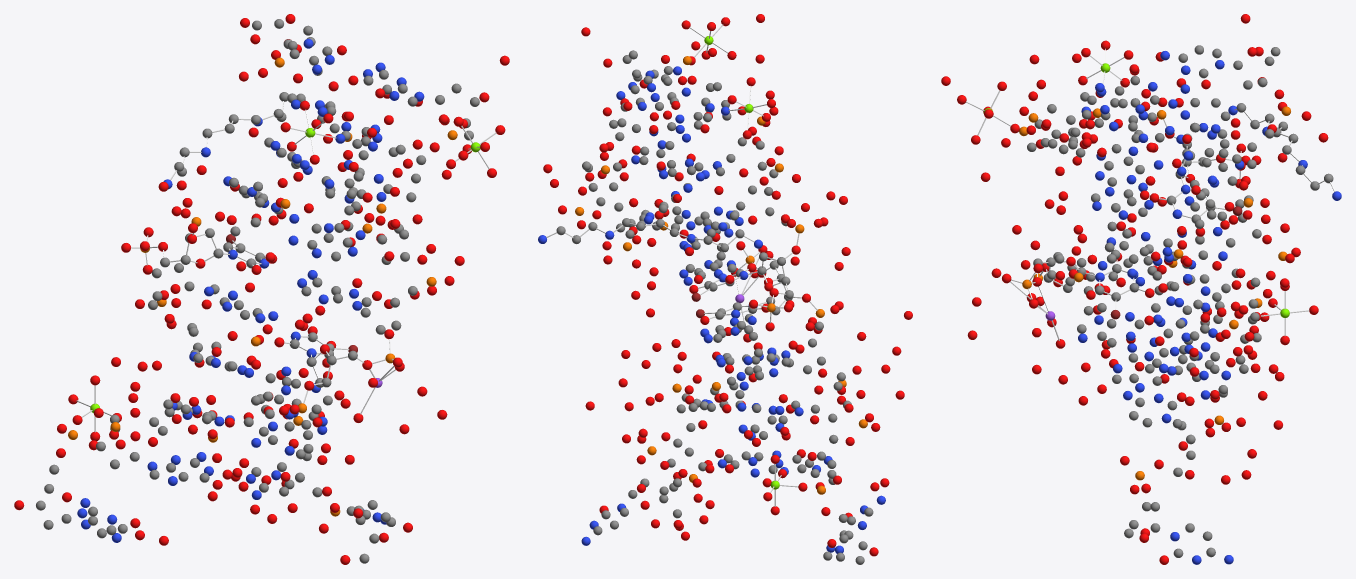
3 renders of one model, left to right at view 1: azimuth 30°, elevation 25°; view 2: azimuth 150°, elevation 25°; view 3: azimuth 270°, elevation 25°, orthographic. The views are drawn at different scales.
Size of the model in its own units: 235 by 286 by 207.
